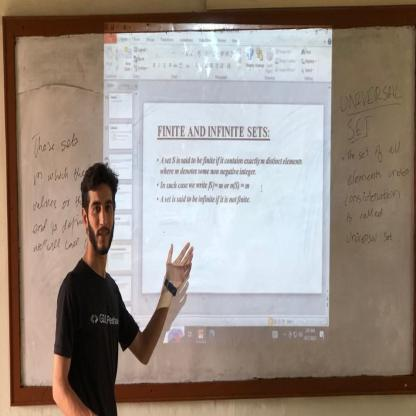Handwritten text: (336, 78, 405, 112), (343, 135, 406, 167), (341, 164, 414, 189), (29, 123, 82, 157), (342, 184, 404, 208), (343, 225, 399, 251), (28, 187, 72, 215), (30, 159, 72, 185), (343, 112, 372, 140), (27, 215, 60, 236)
Lecturer: (42, 151, 149, 406)
Whiteboard: (12, 24, 416, 389)
